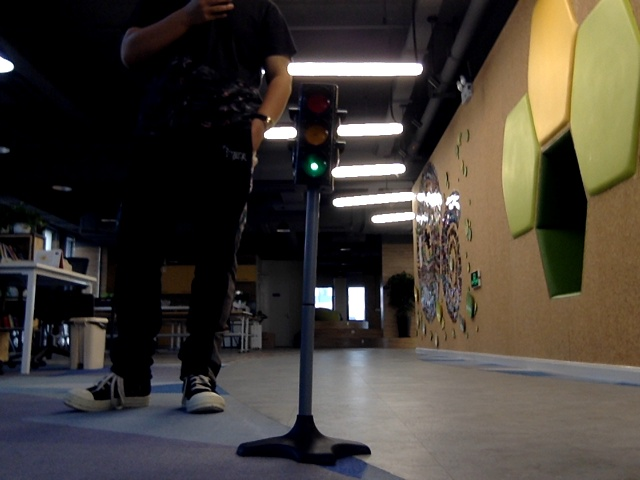green: (301, 91, 330, 179)
